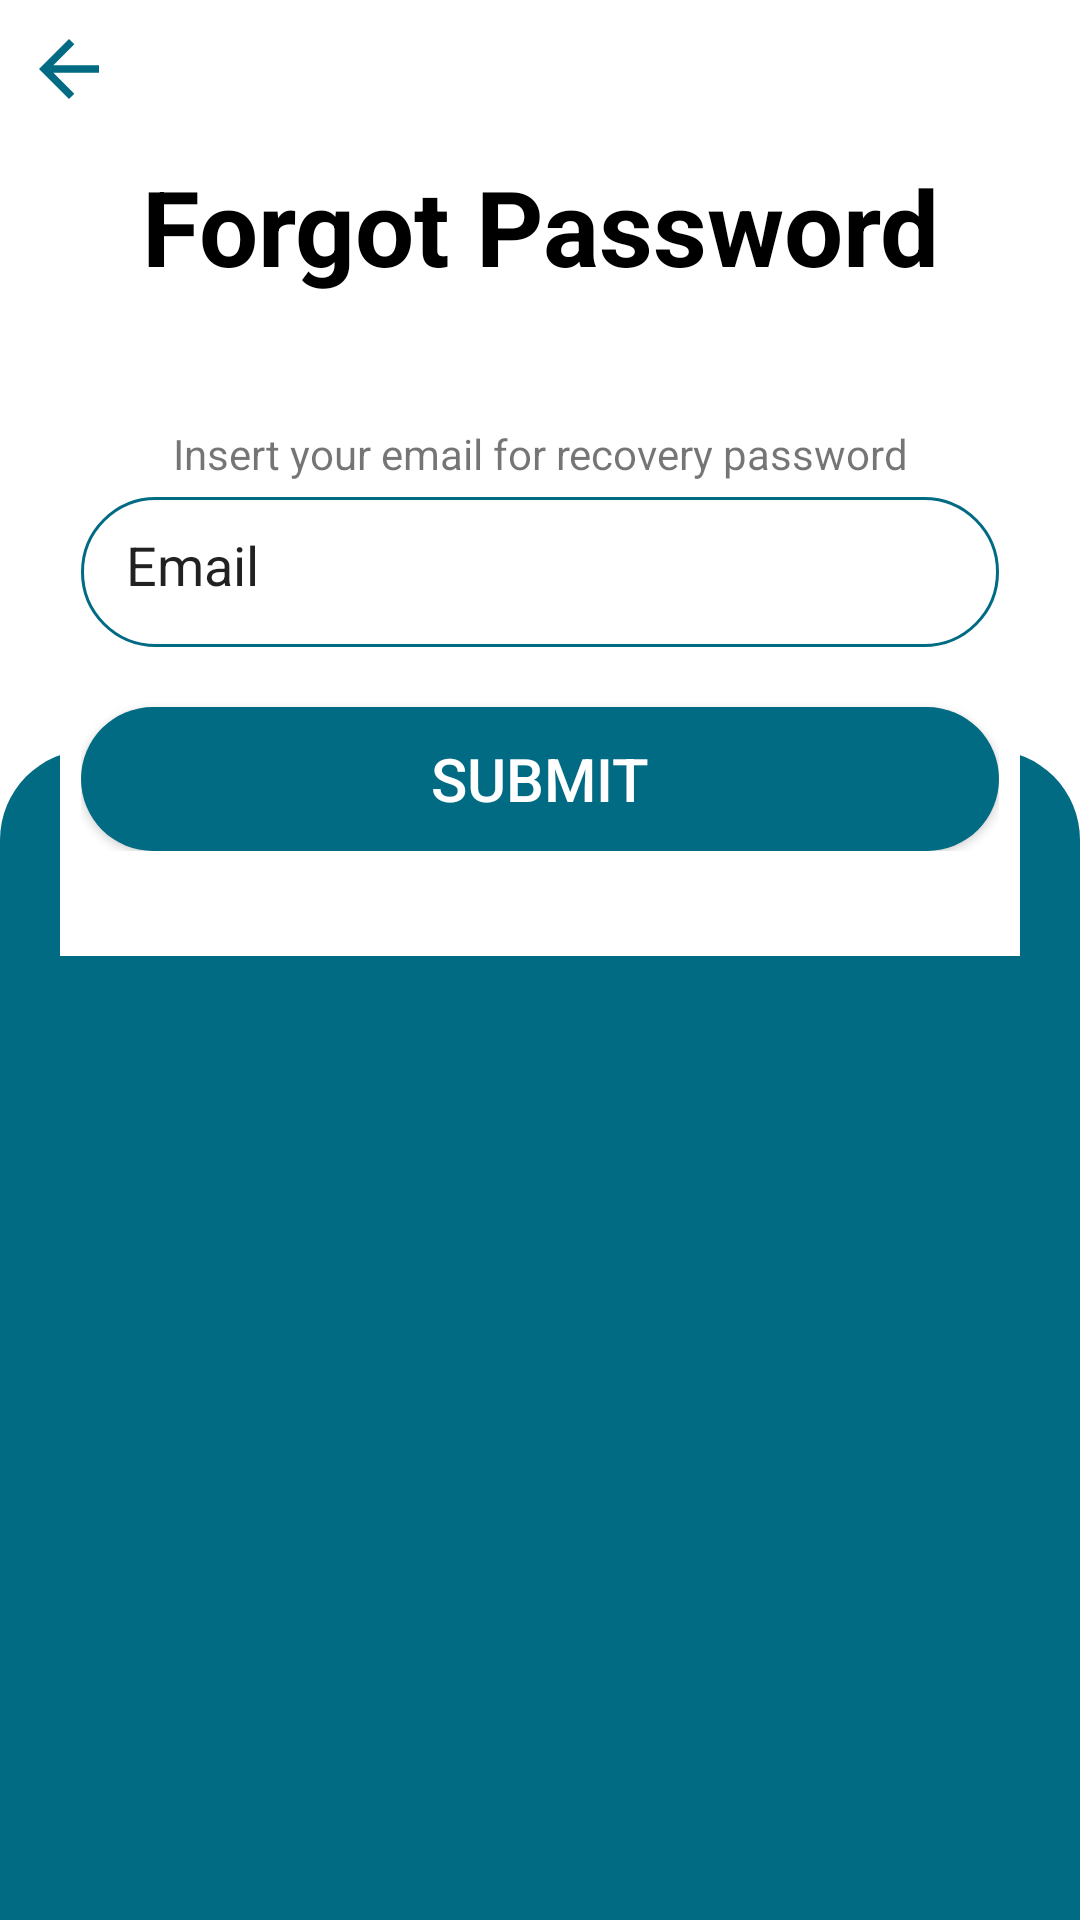

Screen size 1080px x 1920px. Icon name, then its center in pixels as [x,y]:
arrow back: [69,69]
